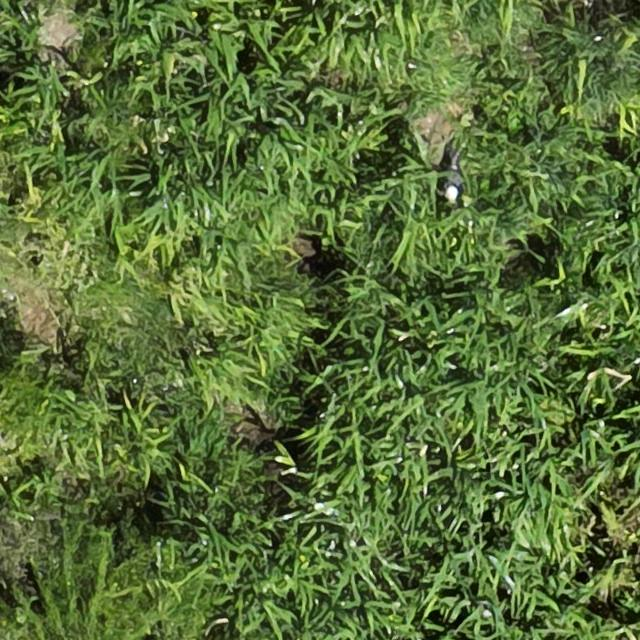umineko: (444, 166, 462, 200)
